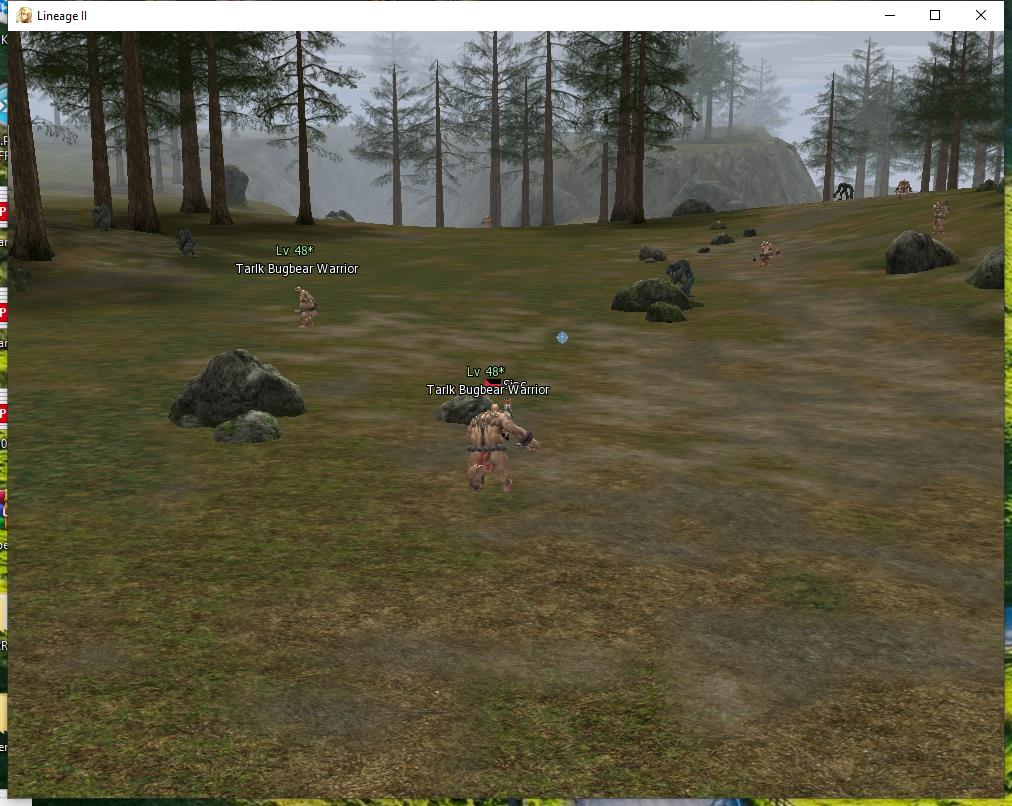monster: (223, 220, 364, 352), (428, 361, 548, 504), (668, 255, 705, 289), (923, 198, 951, 240), (758, 237, 784, 273), (831, 177, 861, 204), (175, 223, 198, 258), (900, 173, 917, 198)
